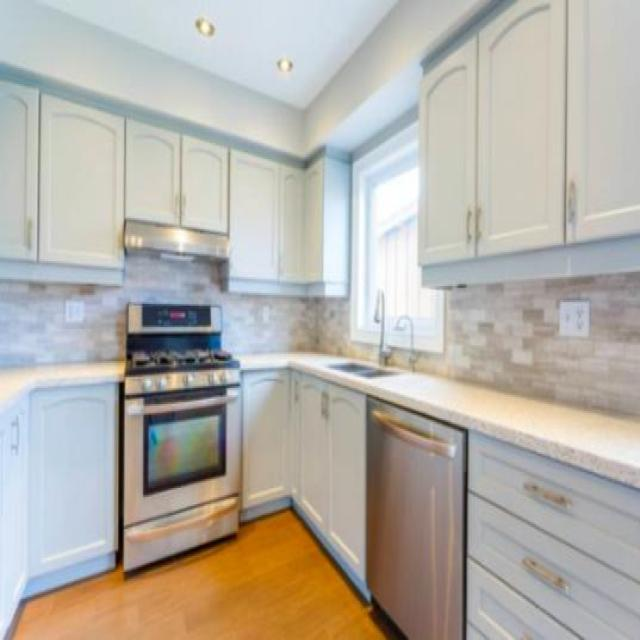dishwasher: (366, 394, 465, 638)
